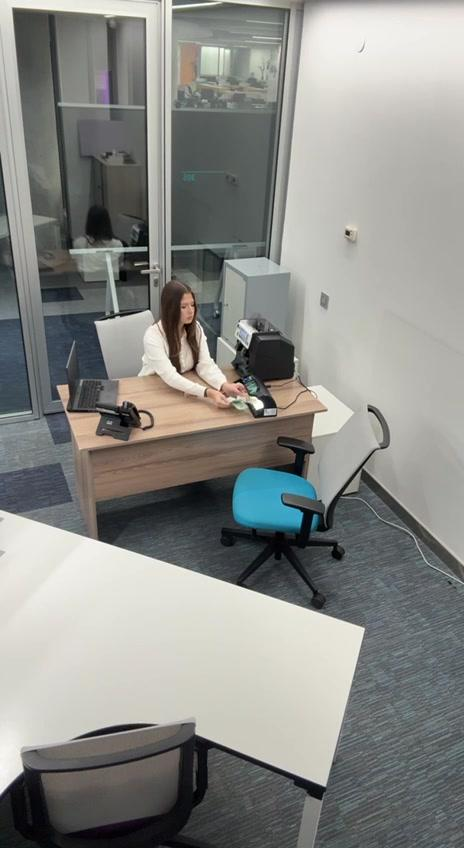cash_stack: (225, 396, 258, 410)
counter: (233, 313, 294, 381)
key_in: (222, 303, 228, 308)
uv_lamp: (244, 377, 277, 418)
